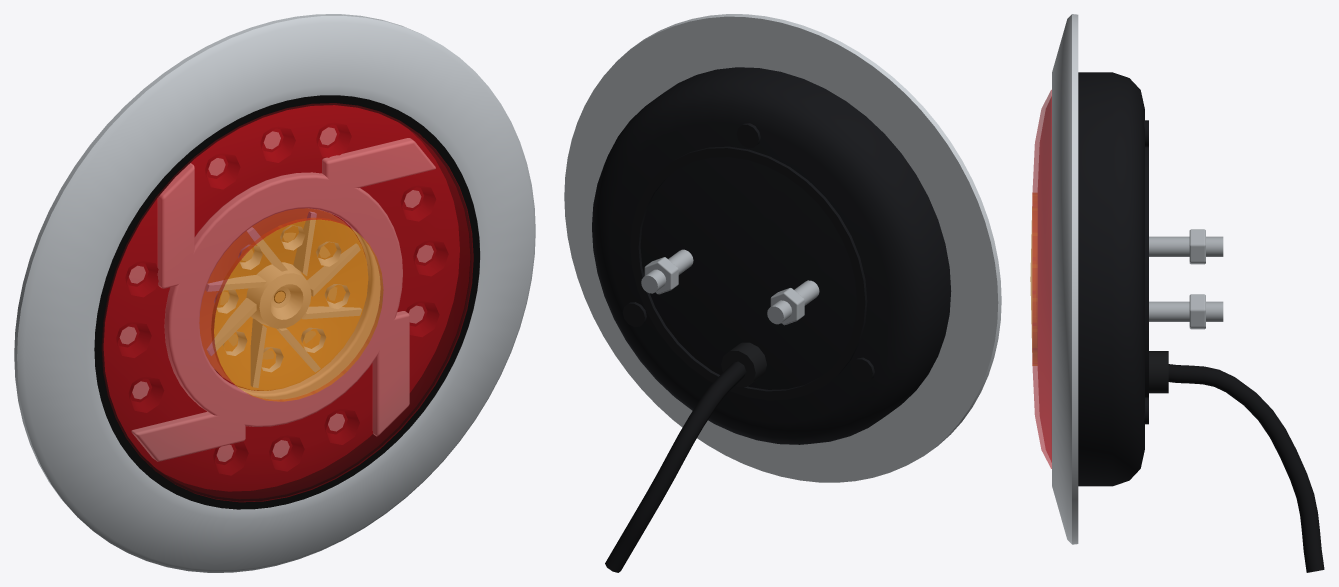
Rendered from lamp-lzd2423.glb.
3 renders of one model, left to right at view 1: azimuth 30°, elevation 25°; view 2: azimuth 150°, elevation 25°; view 3: azimuth 270°, elevation 25°, orthographic. The views are drawn at different scales.
Visible parts, largest first — view 1: BODY, LENS, INNER, EMIT.position, EMIT.stop, EMIT.turn; view 2: BODY; view 3: BODY, LENS.
Boxes of the visible parts, x1,y1,x2,y2 form: BODY: (14,14,535,572); LENS: (102,103,473,502); INNER: (103,105,459,491); EMIT.position: (131,138,435,461); EMIT.stop: (119,127,433,461); EMIT.turn: (220,233,336,359); BODY: (564,14,1001,572); BODY: (1052,14,1324,572); LENS: (1030,90,1051,468).
Bounding box in the file's own units: 0.1554 × 0.164 × 0.0861.
